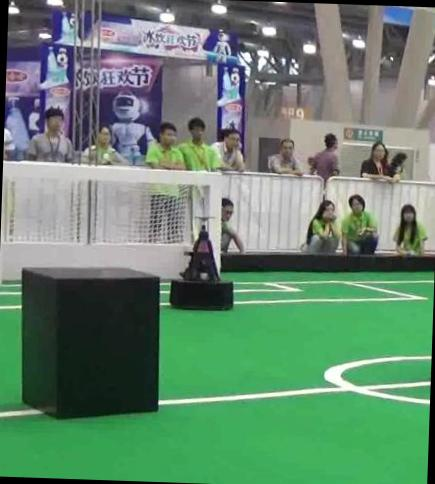robot: (169, 217, 233, 310)
